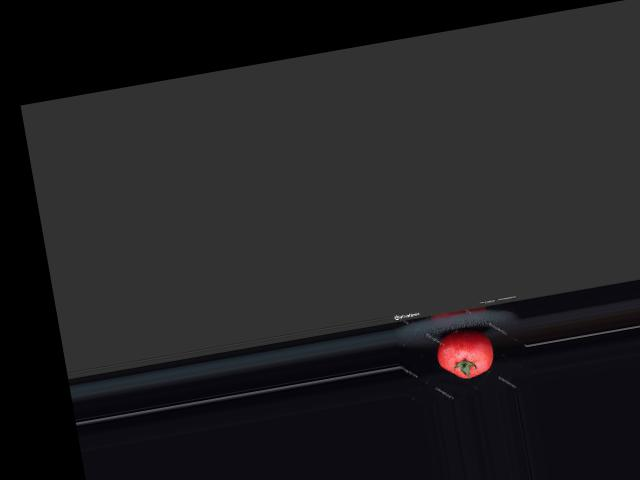tomato: (433, 325, 497, 383)
